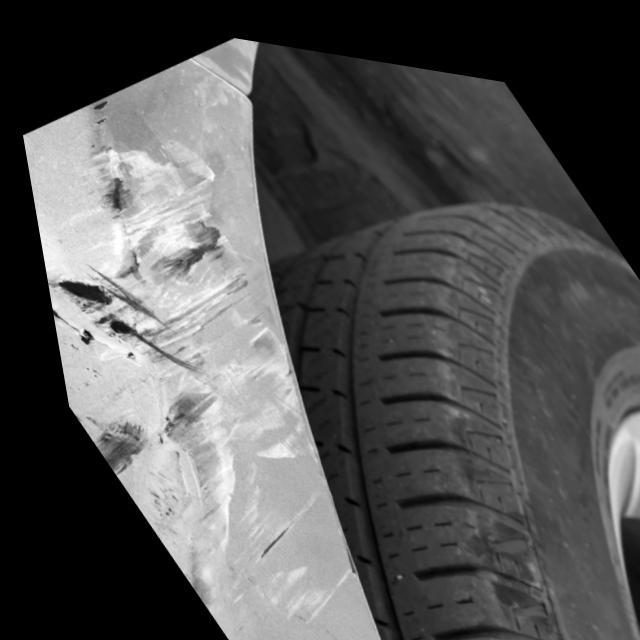scratch: (25, 92, 340, 622)
